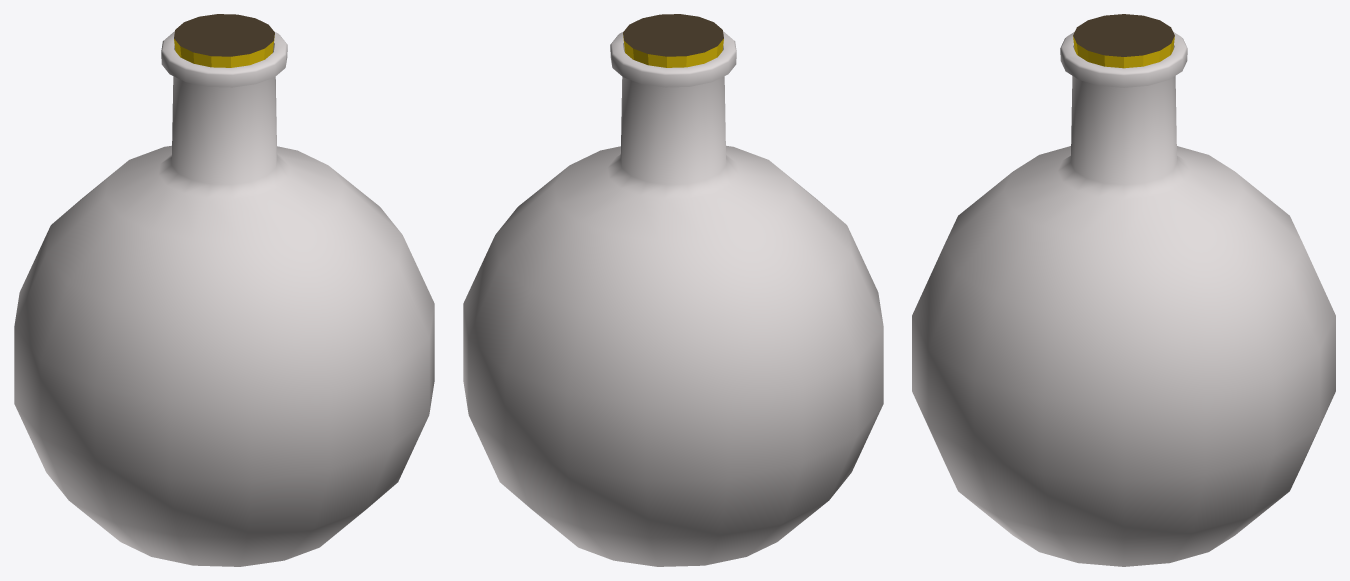
Rendered from Potion5Star.fbx.
3 renders of one model, left to right at view 1: azimuth 30°, elevation 25°; view 2: azimuth 150°, elevation 25°; view 3: azimuth 270°, elevation 25°, orthographic.
Visible parts, largest first — view 1: Potion; view 2: Potion; view 3: Potion.
Part boxes in pixels (x1=…): Potion: x1=14, y1=14, x2=434, y2=566; Potion: x1=463, y1=14, x2=883, y2=566; Potion: x1=912, y1=14, x2=1335, y2=566.
Size of the model in its own units: 161 by 214 by 161.
